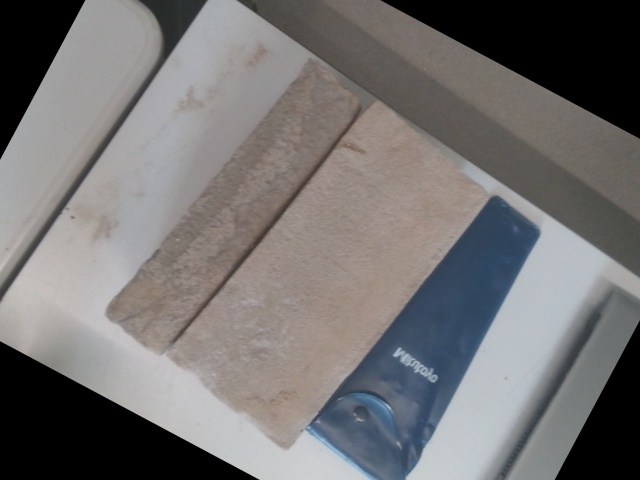brick: (173, 106, 486, 446)
